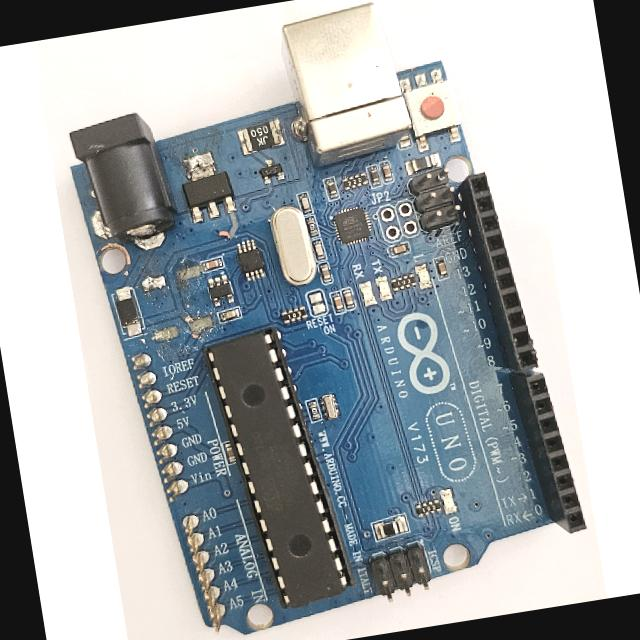missing_analog_pins: (124, 347, 234, 640)
missing_capacitors: (134, 257, 221, 352)
